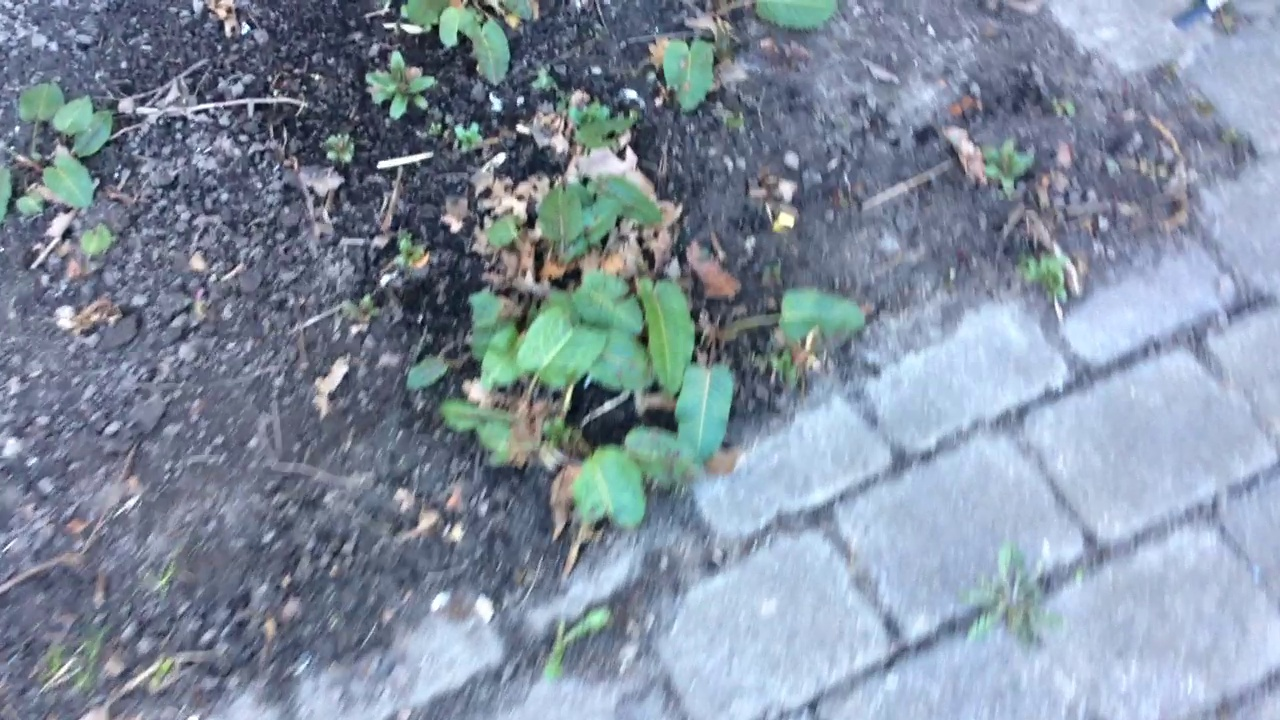rumexw: (438, 162, 873, 531), (659, 1, 856, 117), (1, 75, 115, 229), (402, 1, 551, 80)
